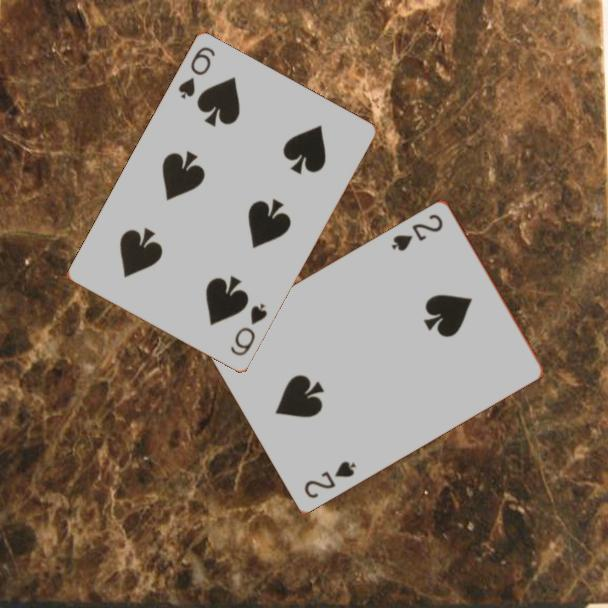s02: (387, 210, 446, 254), (301, 457, 359, 501)
s06: (227, 300, 271, 359), (175, 43, 218, 103)
